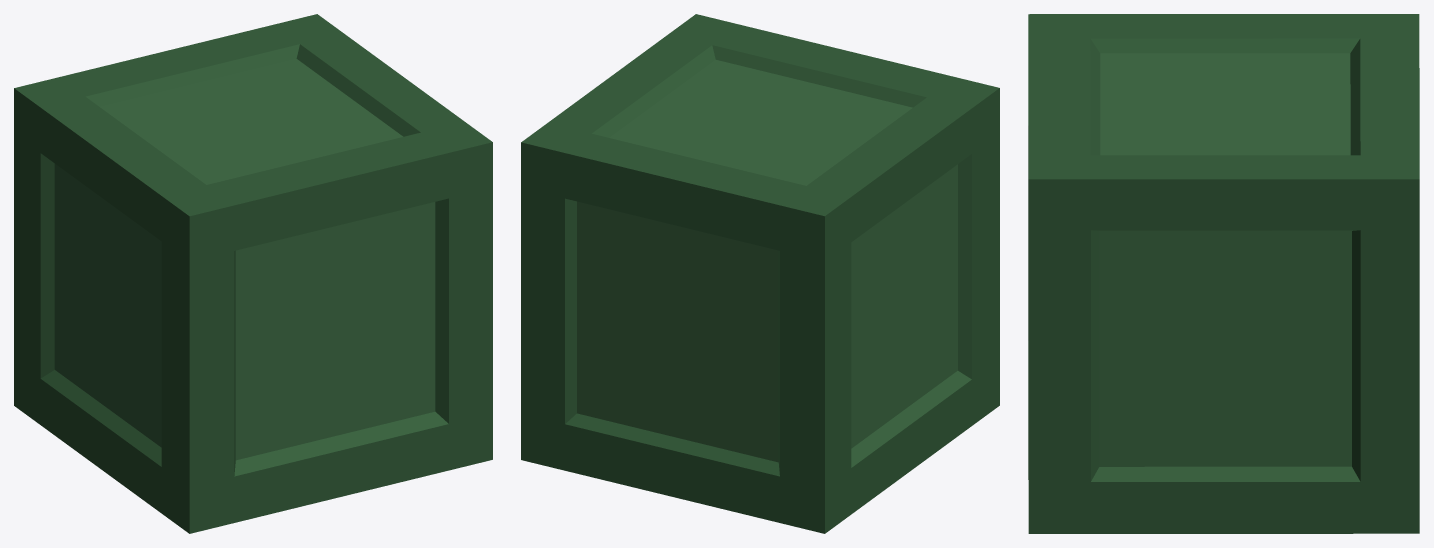
The model's file is Ship_036.glb.
The picture shows the model from 3 angles, left to right: view 1: azimuth 30°, elevation 25°; view 2: azimuth 150°, elevation 25°; view 3: azimuth 270°, elevation 25°; orthographic projection. The views are drawn at different scales.
Visible parts, largest first — view 1: Ship_036; view 2: Ship_036; view 3: Ship_036.
Boxes of the visible parts, x1,y1,x2,y2 form: Ship_036: [14, 14, 492, 533]; Ship_036: [521, 14, 999, 533]; Ship_036: [1028, 14, 1419, 533].
Size of the model in its own units: 0.6039 by 0.6033 by 0.6039.
Materials: 1 (1 with a texture image).
